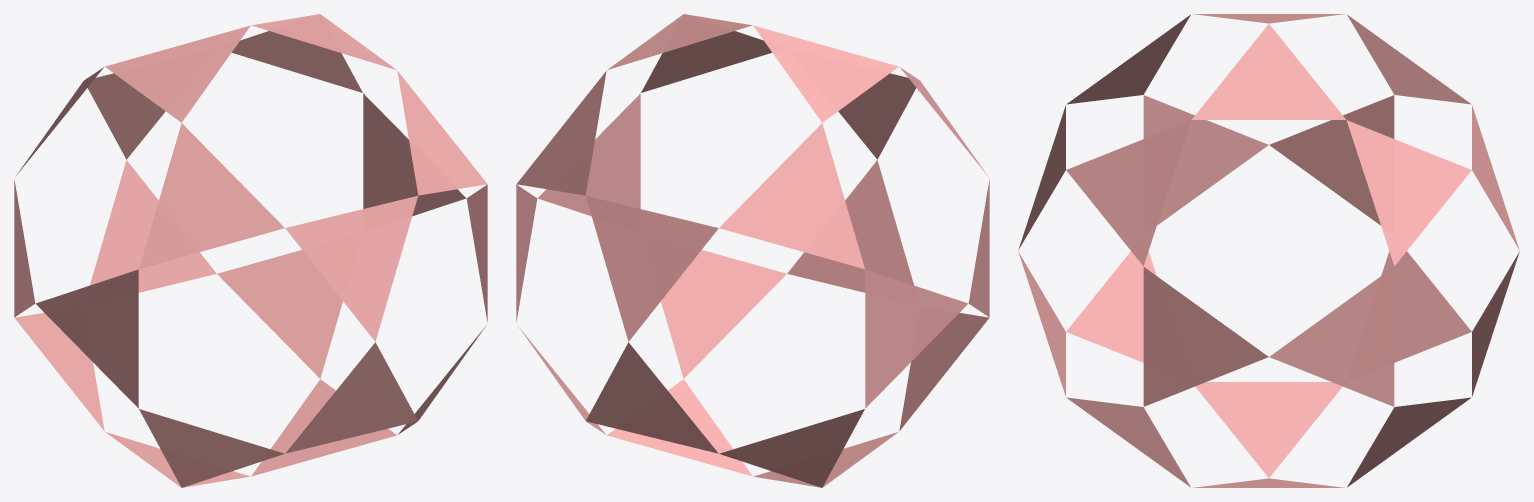
File: IcosidodecahedronA.obj
3 views of the same model, side by side, from view 1: azimuth 30°, elevation 25°; view 2: azimuth 150°, elevation 25°; view 3: azimuth 270°, elevation 25° (orthographic).
Size of the model in its own units: 3.24 by 3.24 by 3.24.
